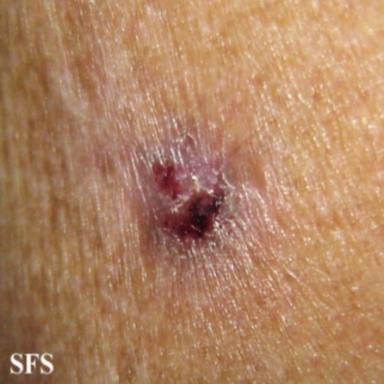basal-cell-carcinoma: (133, 133, 231, 250)
